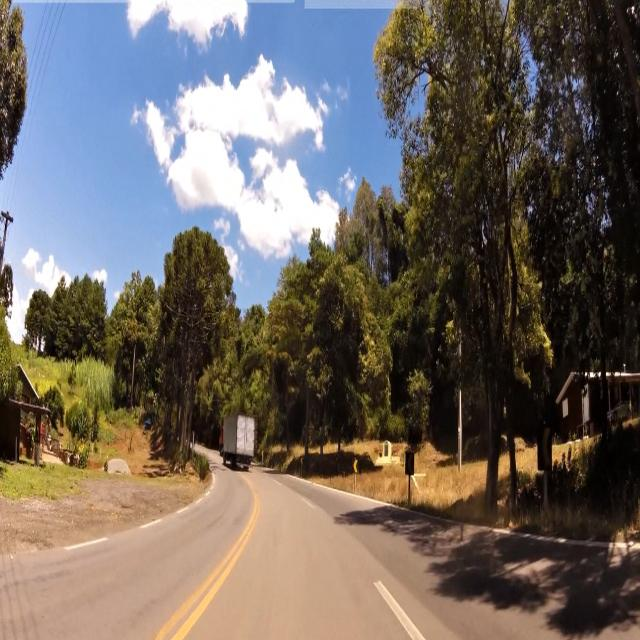Del: (536, 426, 554, 474), (405, 448, 416, 477), (352, 459, 360, 473)
